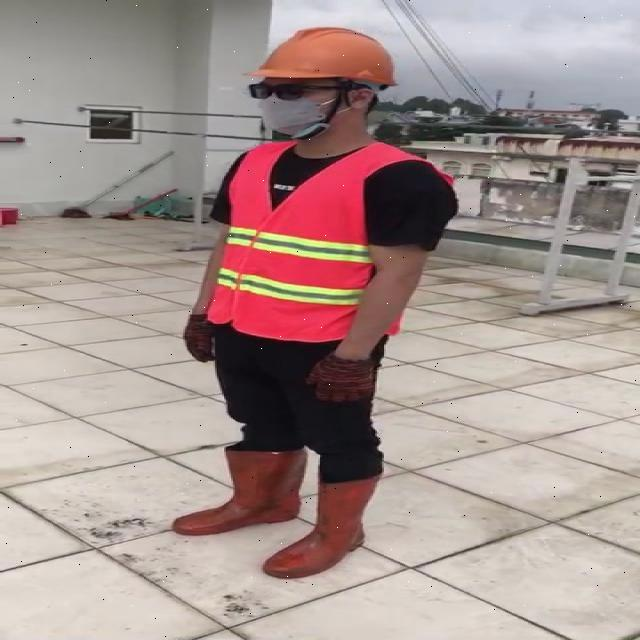Hard_hat: (237, 25, 404, 101)
Person: (177, 28, 461, 623)
Vest: (217, 139, 379, 346)
